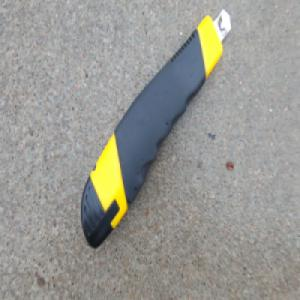Cutter: (80, 7, 232, 249)
